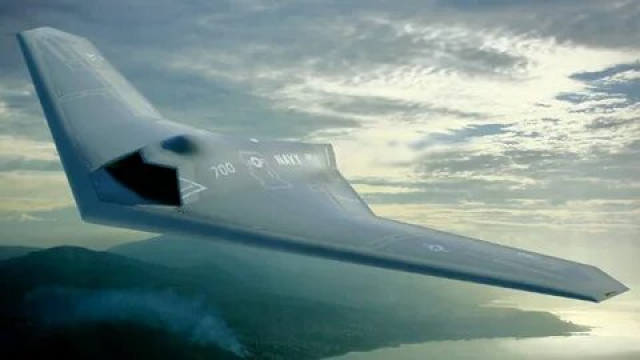military drone: (17, 25, 630, 302)
